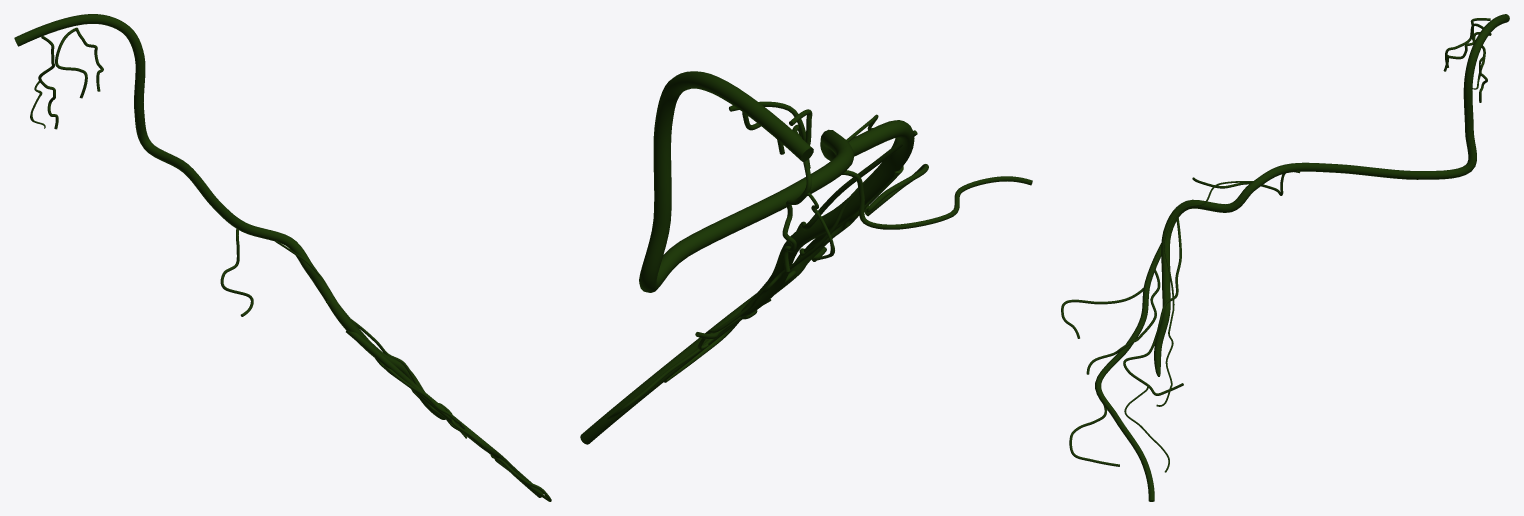
File: Temple_VineClump_Stairs.FBX
3 renders of one model, left to right at view 1: azimuth 30°, elevation 25°; view 2: azimuth 150°, elevation 25°; view 3: azimuth 270°, elevation 25°, orthographic. The views are drawn at different scales.
Parts seen in each view (by area): view 1: Line040; view 2: Line040; view 3: Line040.
Part boxes in pixels (x1=…): Line040: x1=14, y1=14, x2=551, y2=501; Line040: x1=580, y1=71, x2=1032, y2=444; Line040: x1=1061, y1=14, x2=1509, y2=501.
Bounding box in the file's own units: 38.23 × 45.37 × 50.96.
